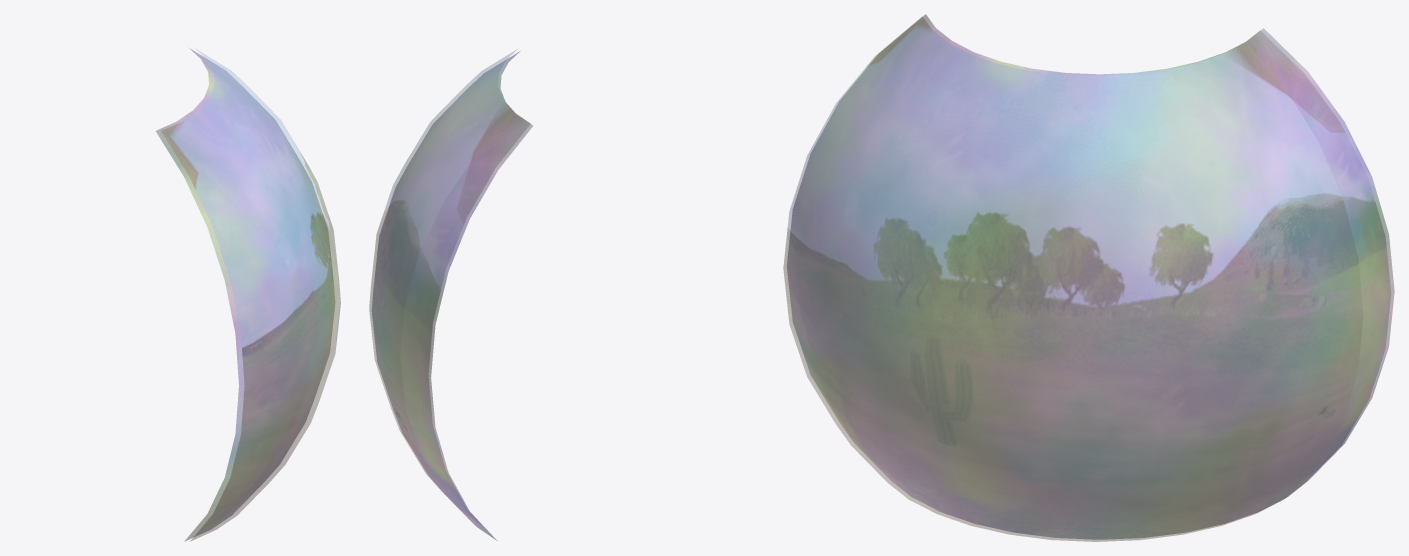
The model's file is bubble_desert3.glb.
The picture shows the model from 3 angles, left to right: view 1: azimuth 30°, elevation 25°; view 2: azimuth 150°, elevation 25°; view 3: azimuth 270°, elevation 25°; orthographic projection. The views are drawn at different scales.
Parts seen in each view (by area): view 1: bubble.png__, envmap4.png__; view 2: bubble.png__, envmap4.png__; view 3: bubble.png__, envmap4.png__.
Boxes of the visible parts, x1,y1,x2,y2 form: bubble.png__: [156, 48, 334, 541]; envmap4.png__: [161, 48, 340, 541]; bubble.png__: [372, 51, 532, 540]; envmap4.png__: [369, 49, 530, 537]; bubble.png__: [787, 14, 1394, 539]; envmap4.png__: [783, 16, 1390, 541].
Bounding box in the file's own units: 0.6236 × 1.06 × 1.32.
2 materials, 2 textured.
